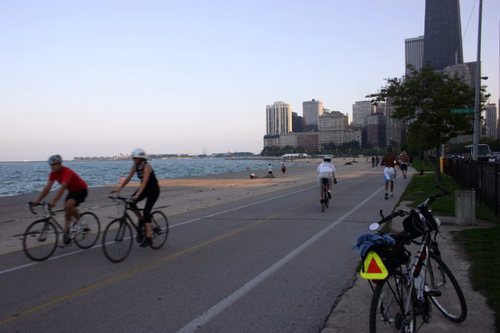bikerider: (17, 145, 106, 266), (100, 150, 180, 270), (308, 149, 341, 219)
